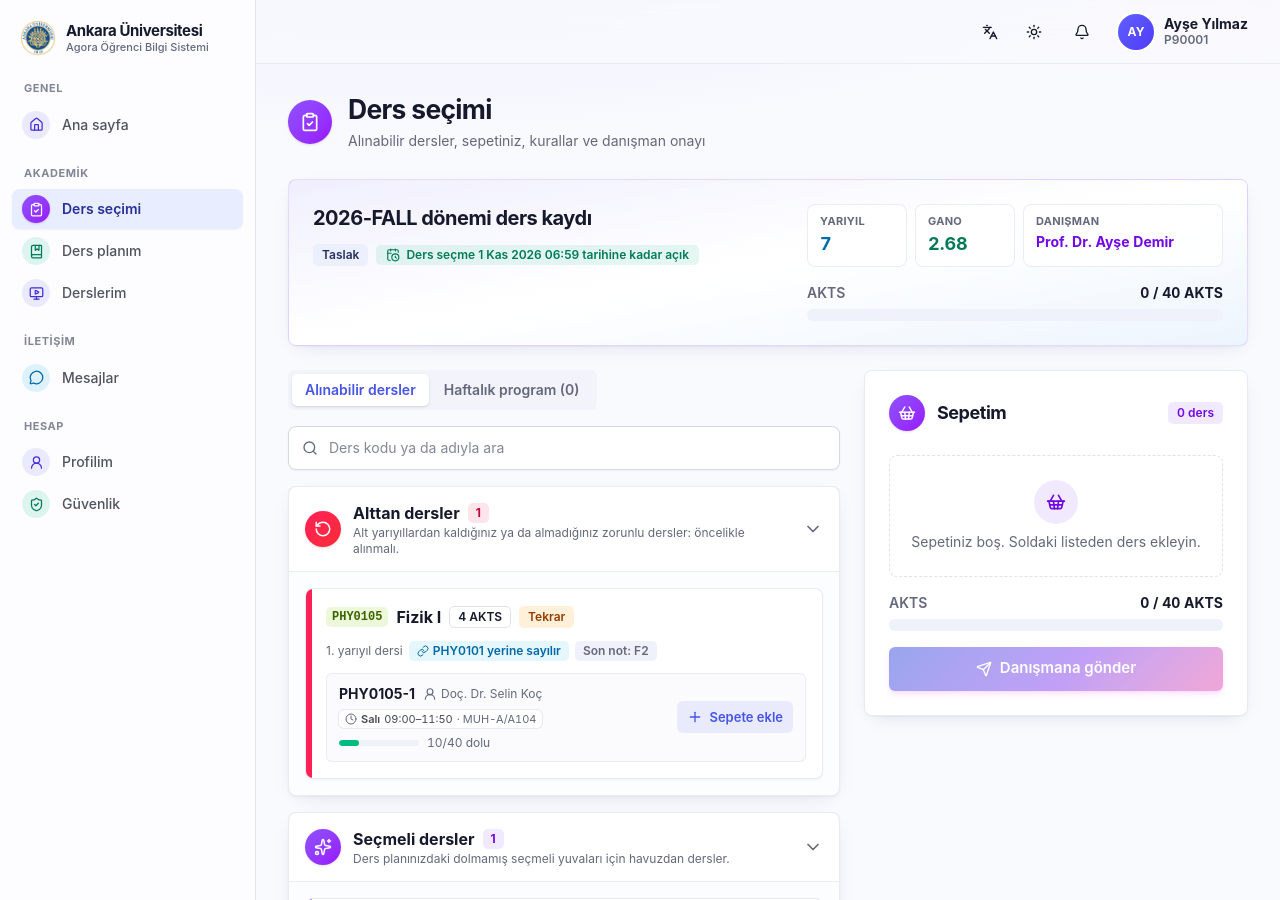
Test: ders seçimi › kural ihlalinde eklemeyi reddeder ve nedenini gösterir
Click the button named "PHY0105-1: Sepete ekle": click(735, 717) [678,701,793,733]
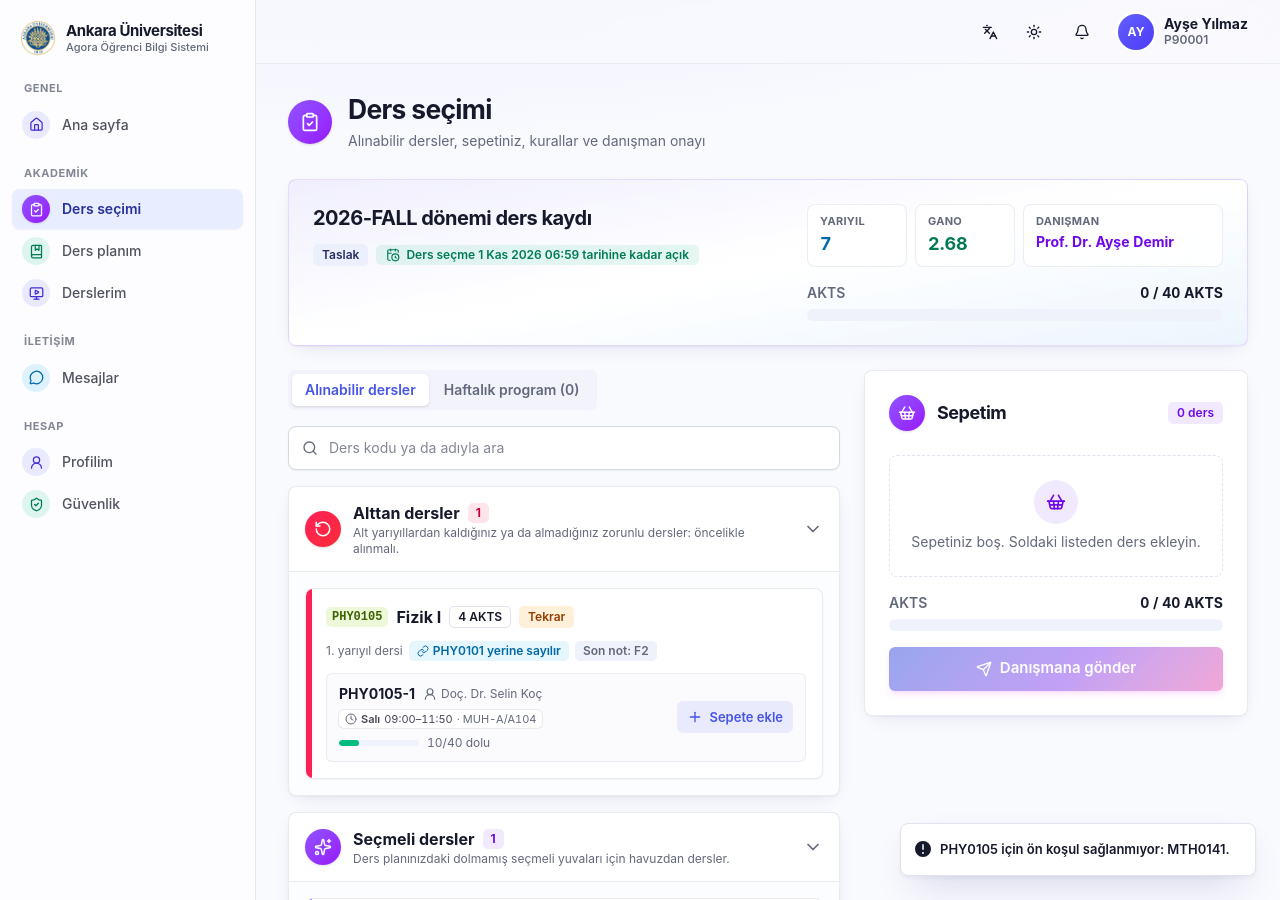
expect the text "PHY0105 için ön koşul sağlanmıyor: MTH0141." is shown: met, box [940,840,1230,859]
